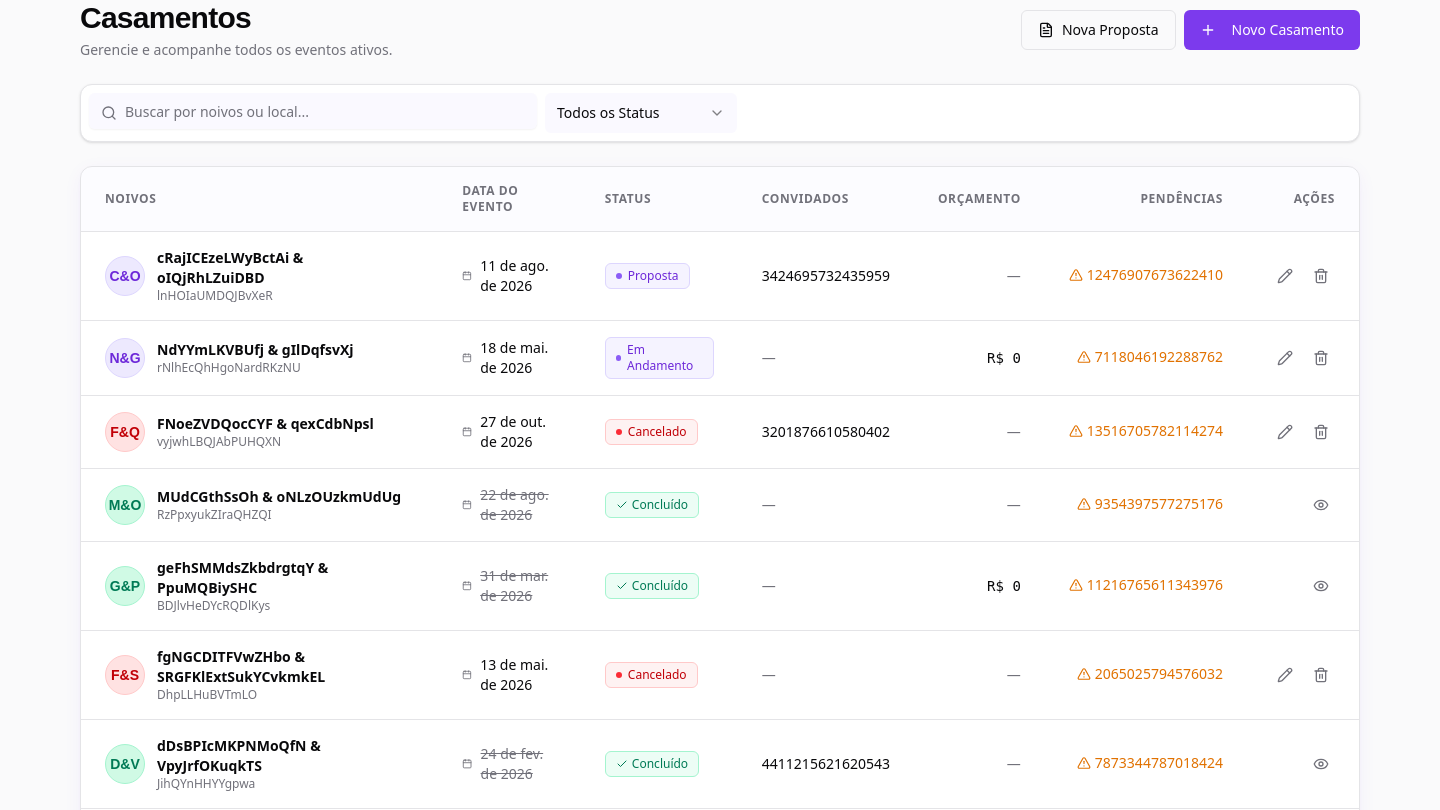
Test: WeddingsListPage › renders weddings list and allows opening the create dialog
The width and height of the screenshot is (1440, 810).
Click the button "Novo Casamento".
click(1272, 30)  # box 1184,10 -> 1360,50
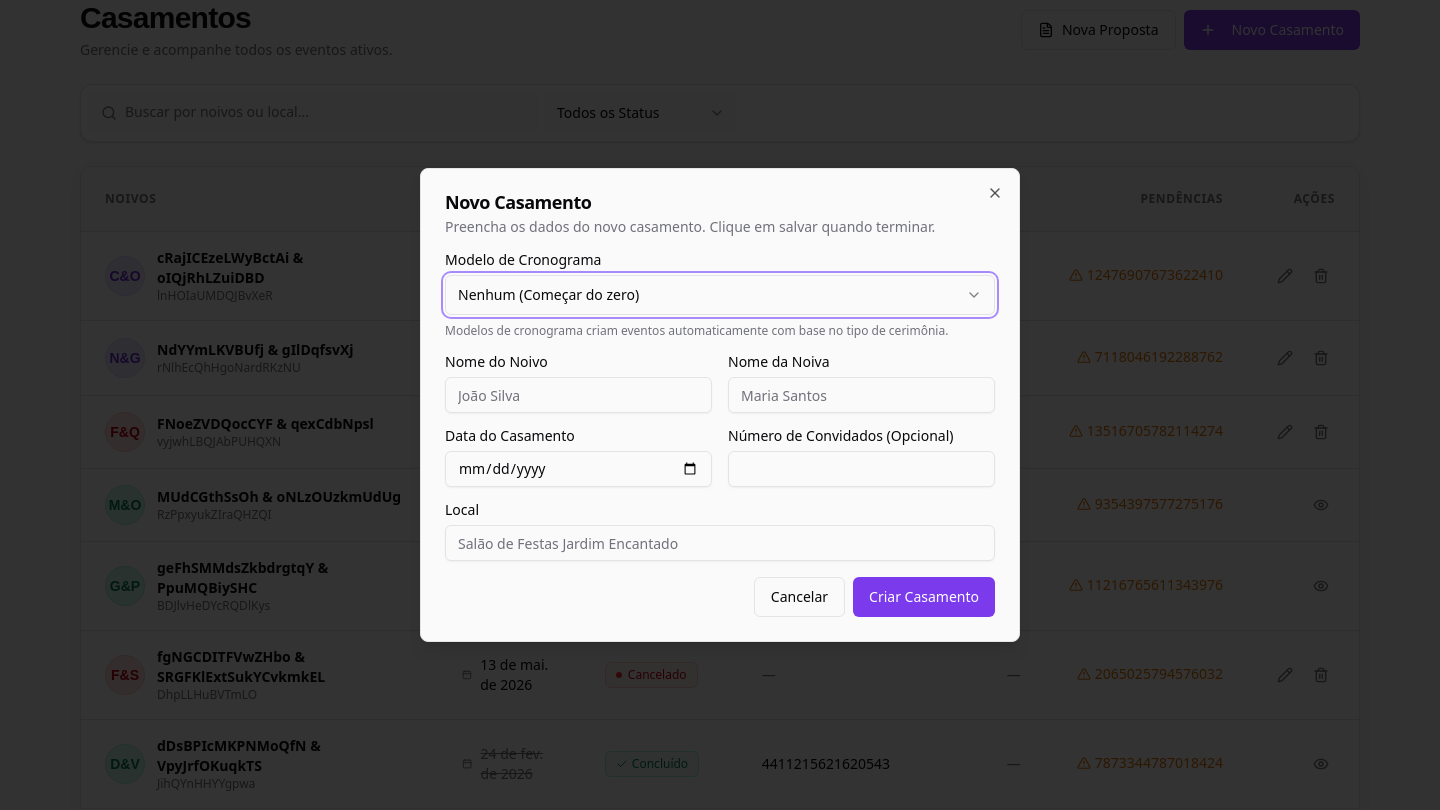
Result: the heading "Novo Casamento" is shown at 445,190 -> 591,214
